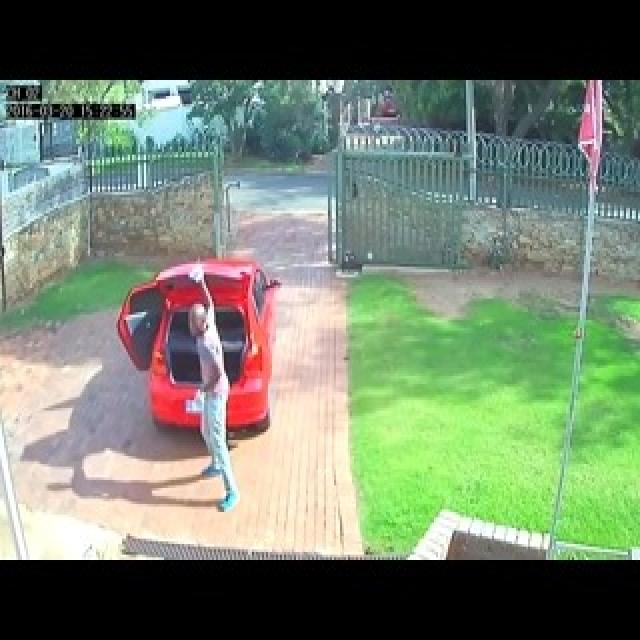thief: (183, 305, 244, 444)
